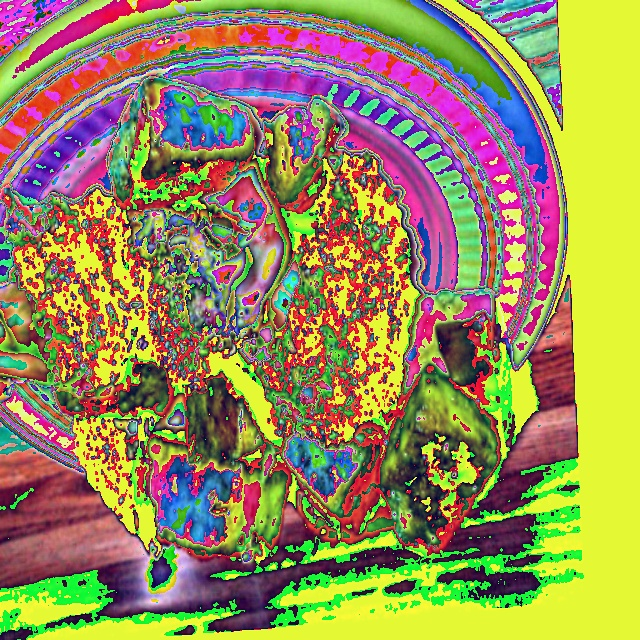background: (0, 77, 517, 564)
